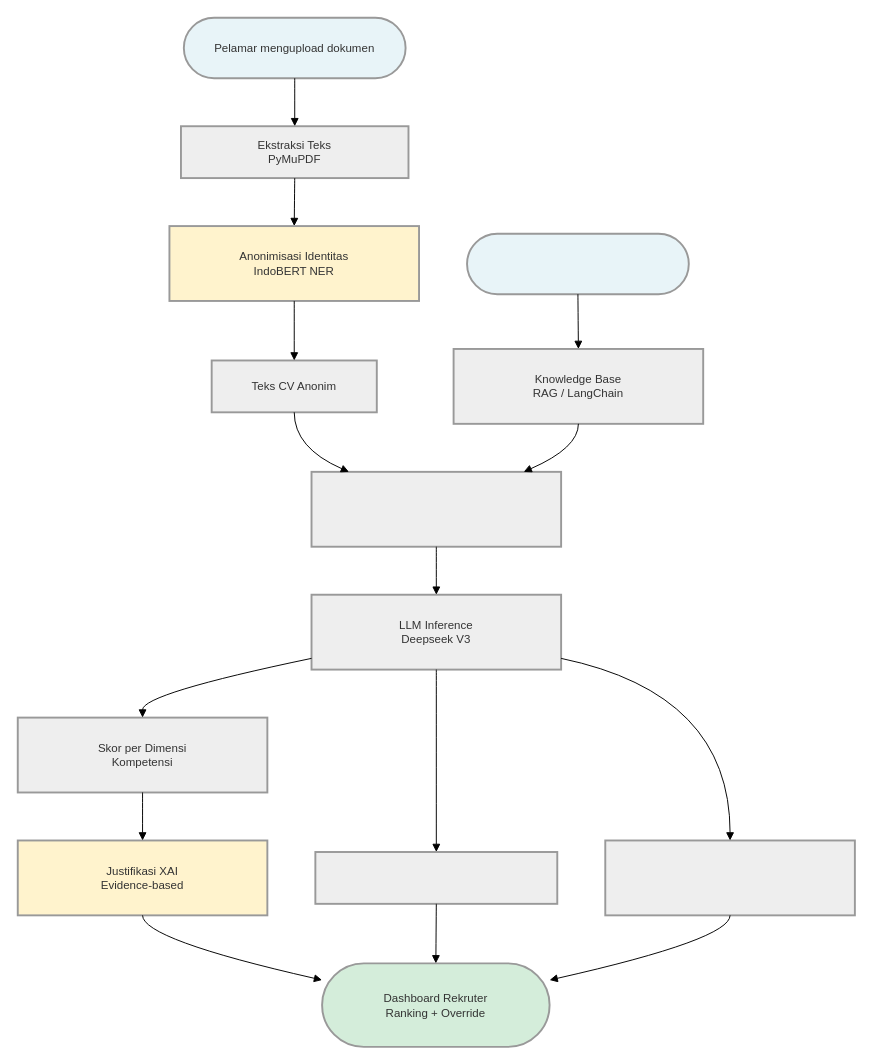
This 872x1064 diagram has some shape labels left out. The centre of each missing label's shape, as x and y in pixels:
"Daftar Pertanyaan Wawancara" goes at [729,877].
"Pipeline RAG Embedding + Retrieval" goes at [436,508].
"Rekruter input rubrik kualifikasi posisi" goes at [577,263].
"Ringkasan Profil Kandidat" goes at [436,877].
